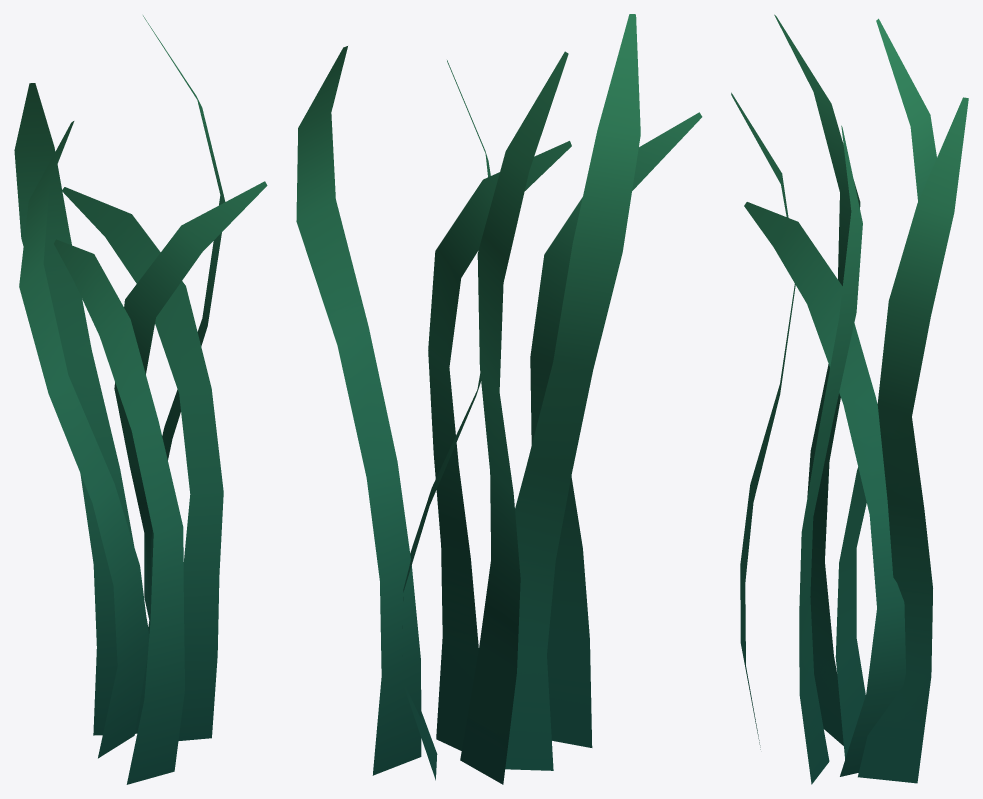
Rendered from SeeWeed.fbx.
3 views of the same model, side by side, from view 1: azimuth 30°, elevation 25°; view 2: azimuth 150°, elevation 25°; view 3: azimuth 270°, elevation 25° (orthographic). The views are drawn at different scales.
Parts seen in each view (by area): view 1: Plane.022; view 2: Plane.022; view 3: Plane.022.
Part boxes in pixels (x1,y1,x2,y2): Plane.022: [14, 15, 267, 784]; Plane.022: [296, 14, 702, 784]; Plane.022: [731, 14, 968, 784].
Size of the model in its own units: 153 by 371 by 115.
